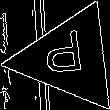P_S: (46, 31, 92, 85)
